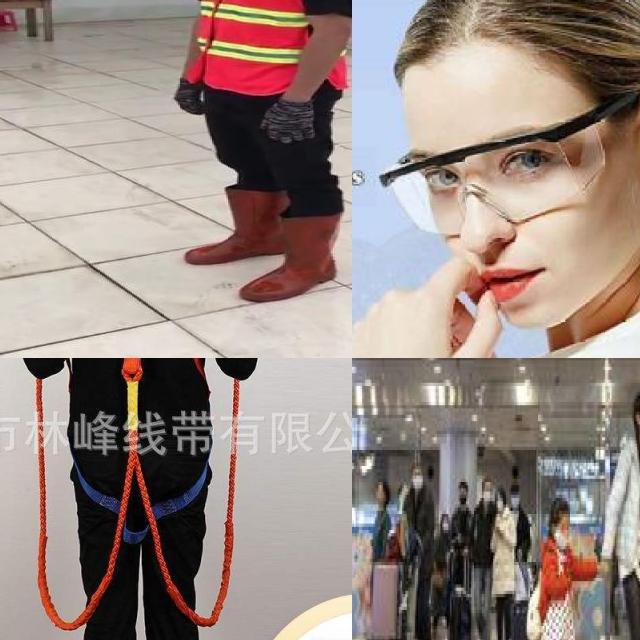Harness: (65, 358, 215, 514)
boots: (235, 216, 351, 304), (182, 187, 286, 266)
face_mask: (552, 517, 568, 549), (412, 469, 422, 492), (482, 482, 492, 504), (509, 492, 519, 508), (495, 492, 503, 511), (458, 486, 466, 504), (442, 517, 448, 530)
face_nomask: (424, 136, 582, 316), (375, 482, 383, 504)
glasses: (378, 81, 640, 237)
hand_noglove: (352, 246, 508, 358)
head_nohelmet: (390, 0, 640, 84), (549, 492, 572, 524), (635, 382, 640, 405)
person: (352, 0, 640, 358), (158, 0, 352, 307), (531, 501, 597, 640), (610, 382, 640, 640), (399, 469, 439, 640), (494, 475, 517, 640), (472, 482, 496, 640), (454, 466, 472, 640)
vest: (183, 0, 352, 98)
